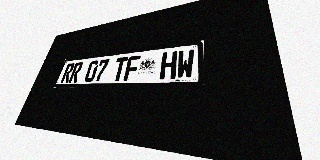0: (83, 60, 100, 82)
7: (93, 59, 110, 82)
F: (123, 55, 141, 81)
H: (159, 51, 178, 80)
R: (68, 62, 84, 83), (60, 63, 75, 83)
T: (111, 57, 128, 81)
W: (176, 49, 195, 79)
